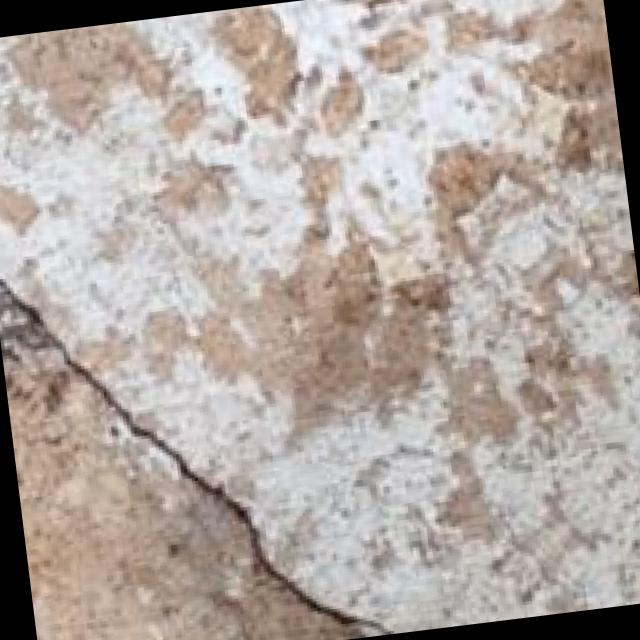crack: (0, 159, 396, 640)
